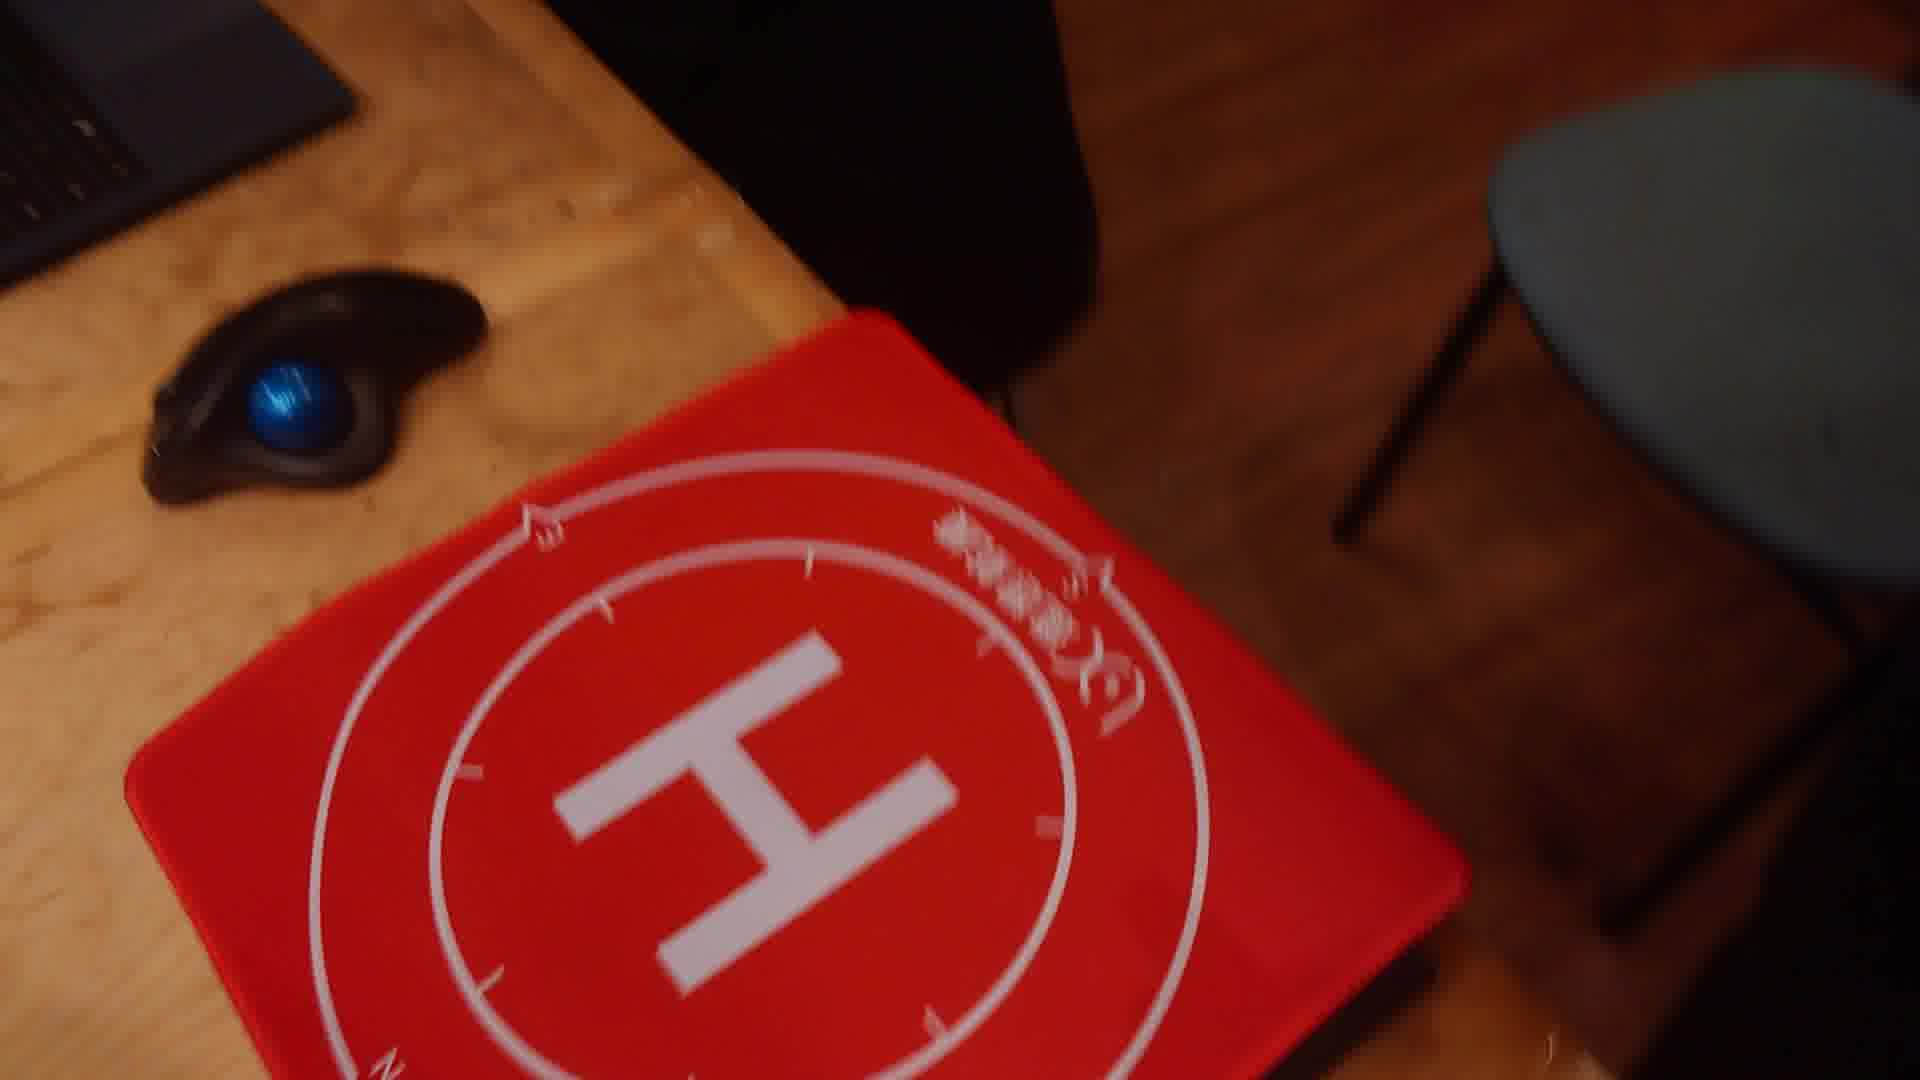H: (554, 625, 963, 996)
